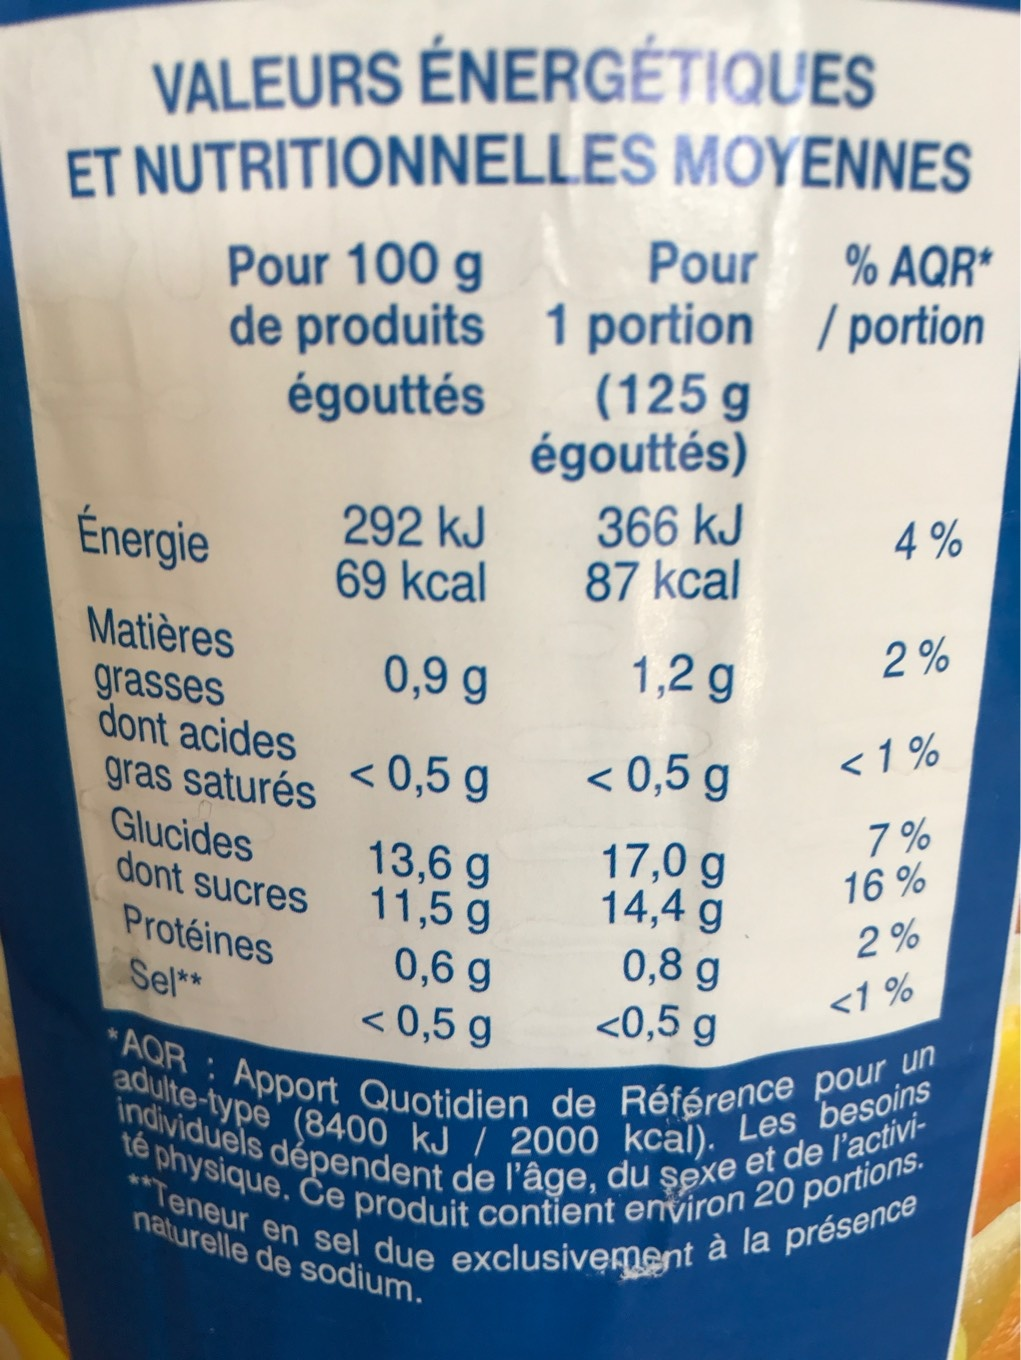column: (72, 499, 316, 1004), (582, 496, 748, 1045), (336, 499, 493, 1051), (834, 496, 968, 1024)
table: (26, 6, 1001, 1060)
